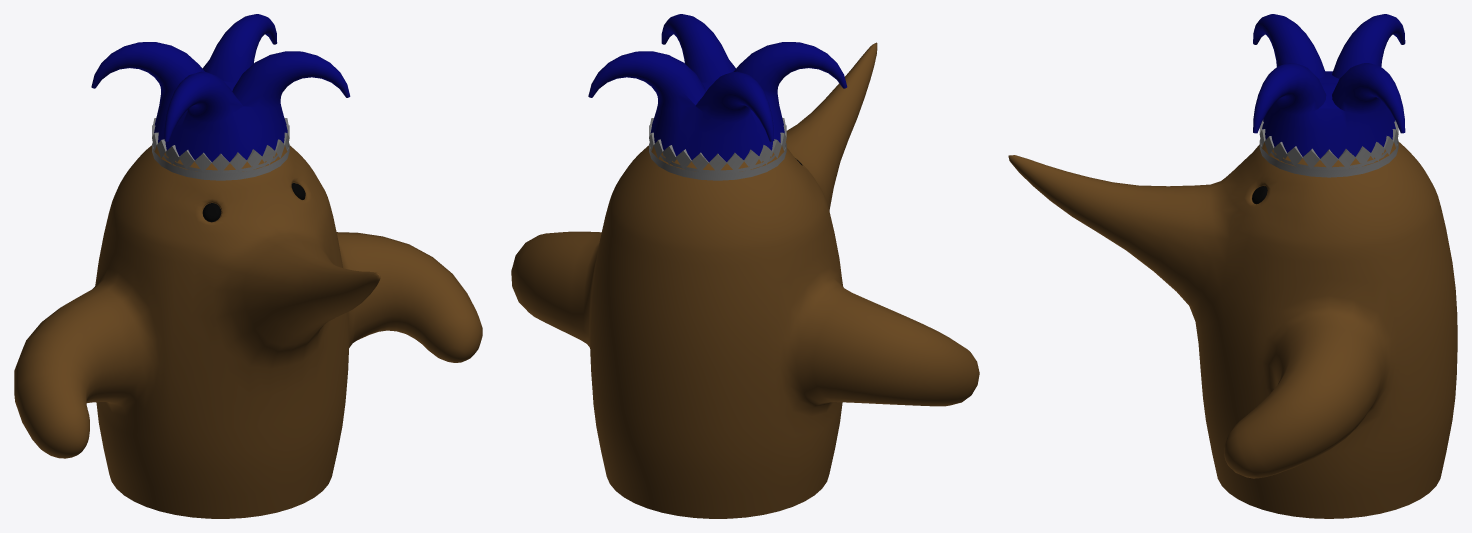
Rendered from Jester Mole 1.fbx.
3 renders of one model, left to right at view 1: azimuth 30°, elevation 25°; view 2: azimuth 150°, elevation 25°; view 3: azimuth 270°, elevation 25°, orthographic.
Visible parts, largest first — view 1: Mole_J, Jester_Hat; view 2: Mole_J, Jester_Hat; view 3: Mole_J, Jester_Hat.
Part boxes in pixels (x1,y1,x2,y2): Mole_J: (14,145,482,518); Jester_Hat: (91,14,350,180); Mole_J: (511,42,979,518); Jester_Hat: (588,14,847,180); Mole_J: (1008,142,1457,518); Jester_Hat: (1253,14,1405,177).
Size of the model in its own units: 5.4 by 4.92 by 4.69.
